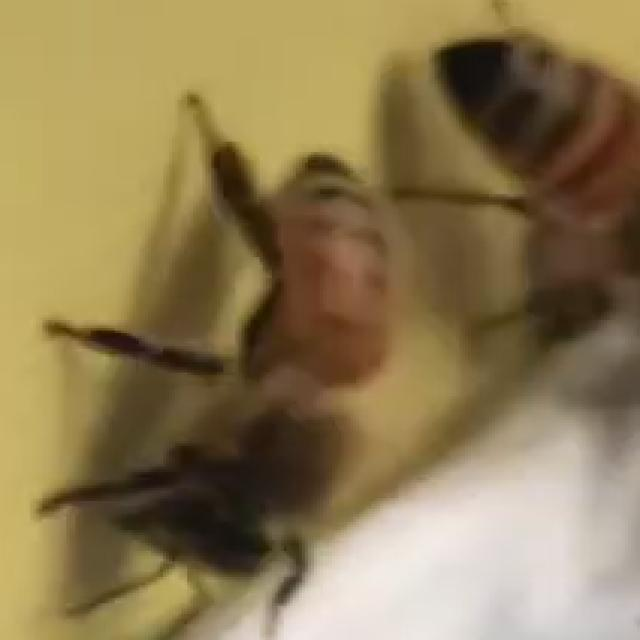honeybee: (85, 154, 364, 602), (434, 37, 640, 372)
